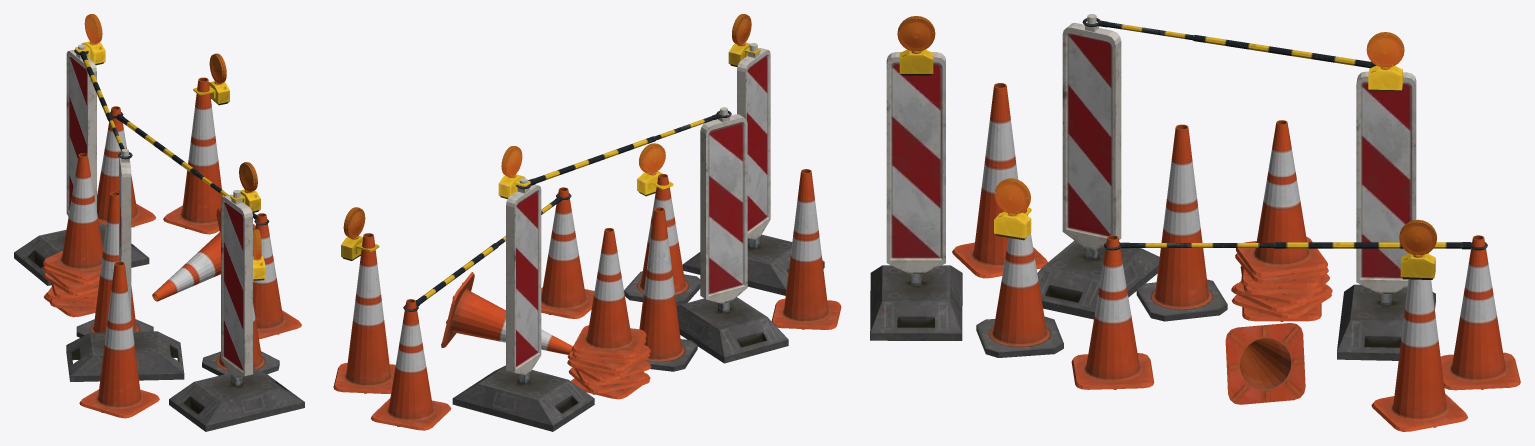
The picture shows the model from 3 angles, left to right: view 1: azimuth 30°, elevation 25°; view 2: azimuth 150°, elevation 25°; view 3: azimuth 270°, elevation 25°; orthographic projection. The views are drawn at different scales.
Visible parts, largest first — view 1: geometry_0, geometry_1; view 2: geometry_0, geometry_1; view 3: geometry_0, geometry_1.
Boxes of the visible parts, x1,y1,x2,y2 form: geometry_0: (14,44,304,431); geometry_1: (75,14,265,280); geometry_0: (333,14,841,431); geometry_1: (498,143,673,198); geometry_0: (870,14,1520,431); geometry_1: (994,32,1404,240).
Size of the model in its own units: 2.25 by 1.65 by 3.18.
Materials: 2 (2 with a texture image).
